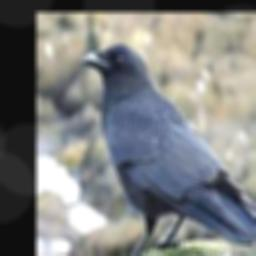Crow: (83, 42, 256, 256)
